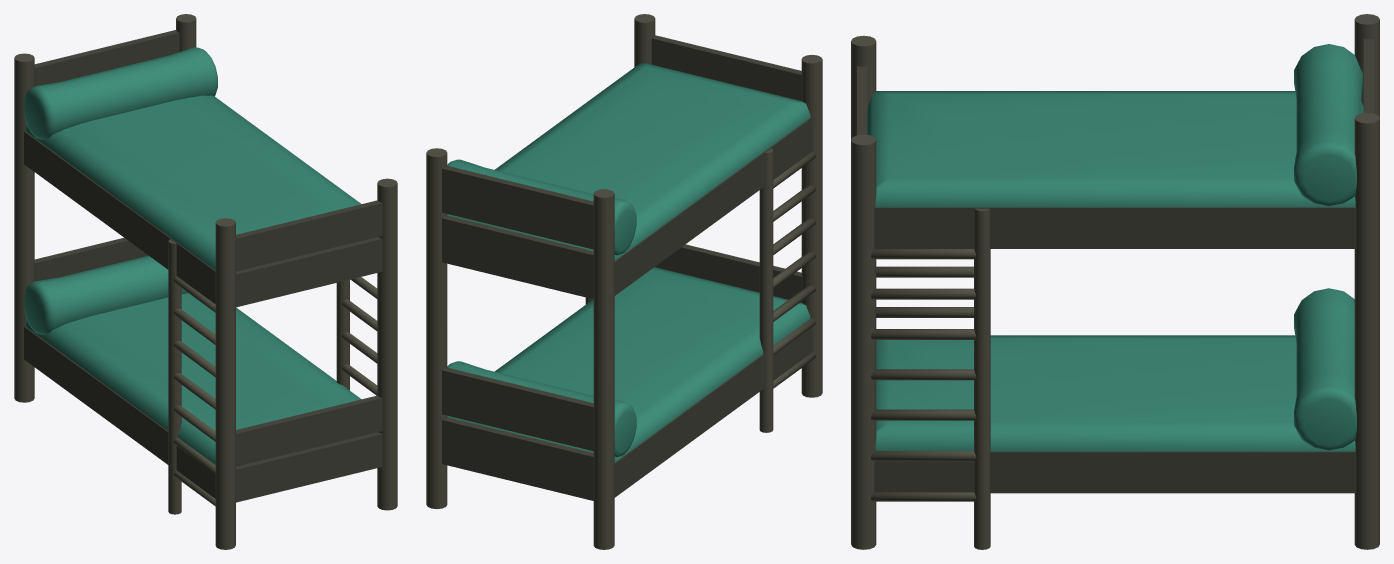
The model's file is EM_139_bunk_beds.glb.
3 renders of one model, left to right at view 1: azimuth 30°, elevation 25°; view 2: azimuth 150°, elevation 25°; view 3: azimuth 270°, elevation 25°, orthographic. The views are drawn at different scales.
Parts seen in each view (by area): view 1: mattress_top, mattress_bottom, support_structure_top, legs, support_structure_bottom, pillow_top, pillow_bottom, ladder_vertical, ladder_horizontal; view 2: mattress_top, support_structure_top, support_structure_bottom, mattress_bottom, legs, ladder_vertical, ladder_horizontal, pillow_top, pillow_bottom; view 3: mattress_top, mattress_bottom, legs, support_structure_top, support_structure_bottom, ladder_horizontal, pillow_top, pillow_bottom, ladder_vertical.
Part boxes in pixels (bbox=[...]): mattress_top: bbox=[26, 95, 361, 270]; mattress_bottom: bbox=[26, 293, 361, 464]; support_structure_top: bbox=[24, 30, 382, 307]; legs: bbox=[14, 14, 397, 549]; support_structure_bottom: bbox=[24, 238, 382, 502]; pillow_top: bbox=[24, 47, 217, 139]; pillow_bottom: bbox=[24, 255, 187, 335]; ladder_vertical: bbox=[168, 239, 349, 514]; ladder_horizontal: bbox=[173, 276, 377, 506]; mattress_top: bbox=[447, 63, 810, 260]; support_structure_top: bbox=[442, 35, 812, 299]; support_structure_bottom: bbox=[442, 244, 812, 500]; mattress_bottom: bbox=[447, 267, 810, 462]; legs: bbox=[426, 14, 822, 549]; ladder_vertical: bbox=[585, 148, 773, 432]; ladder_horizontal: bbox=[773, 152, 816, 388]; pillow_top: bbox=[447, 159, 636, 255]; pillow_bottom: bbox=[447, 361, 636, 456]; mattress_top: bbox=[867, 91, 1363, 207]; mattress_bottom: bbox=[875, 335, 1355, 451]; legs: bbox=[851, 14, 1379, 549]; support_structure_top: bbox=[857, 38, 1373, 248]; support_structure_bottom: bbox=[874, 451, 1356, 493]; ladder_horizontal: bbox=[871, 249, 976, 501]; pillow_top: bbox=[1294, 44, 1362, 205]; pillow_bottom: bbox=[1294, 288, 1356, 450]; ladder_vertical: bbox=[974, 208, 990, 549].
Size of the model in its own units: 1.45 by 2.62 by 2.94.
